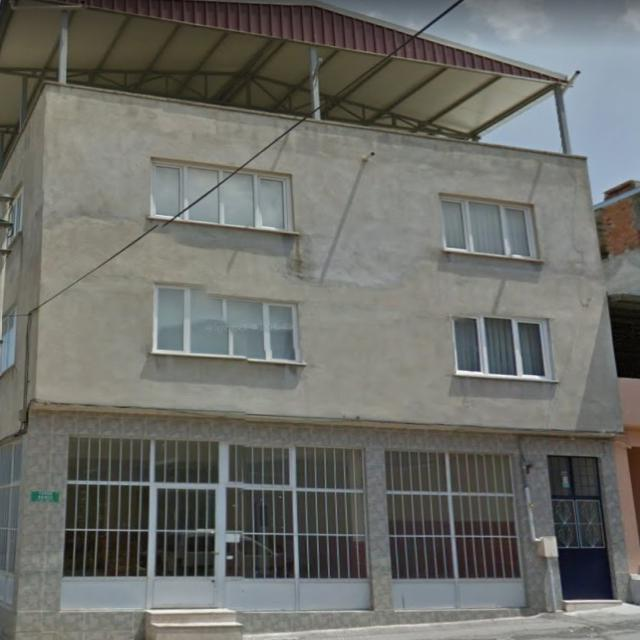Building: (0, 0, 636, 640)
